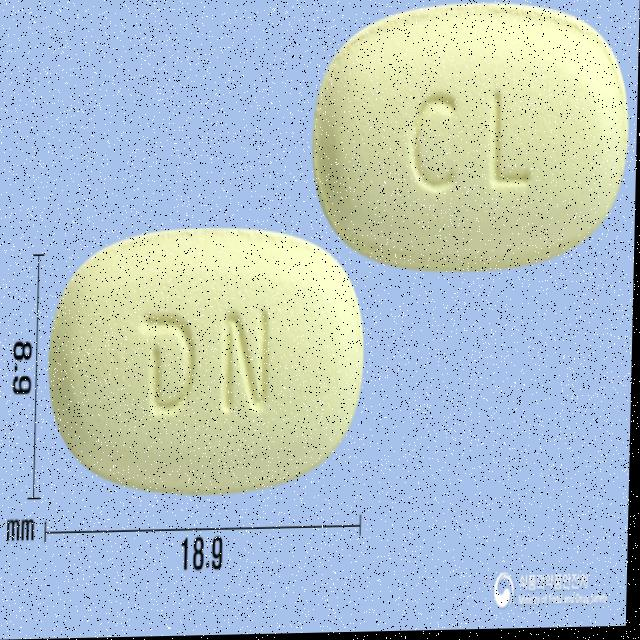Clamacin: (308, 0, 636, 291), (46, 217, 372, 508)
